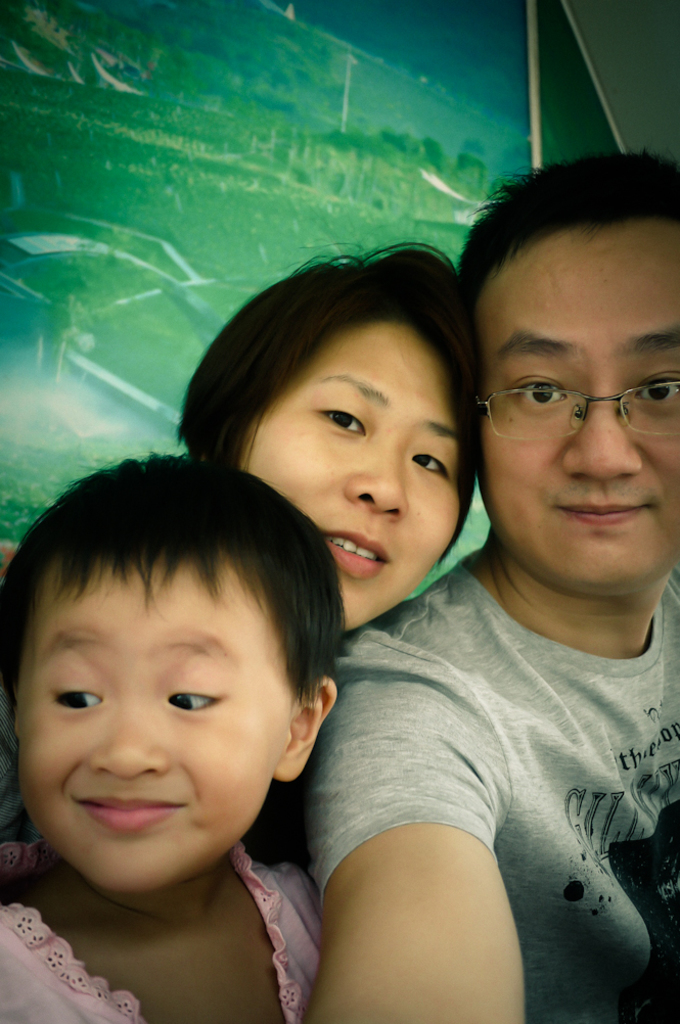Person: (1, 146, 680, 1024)
